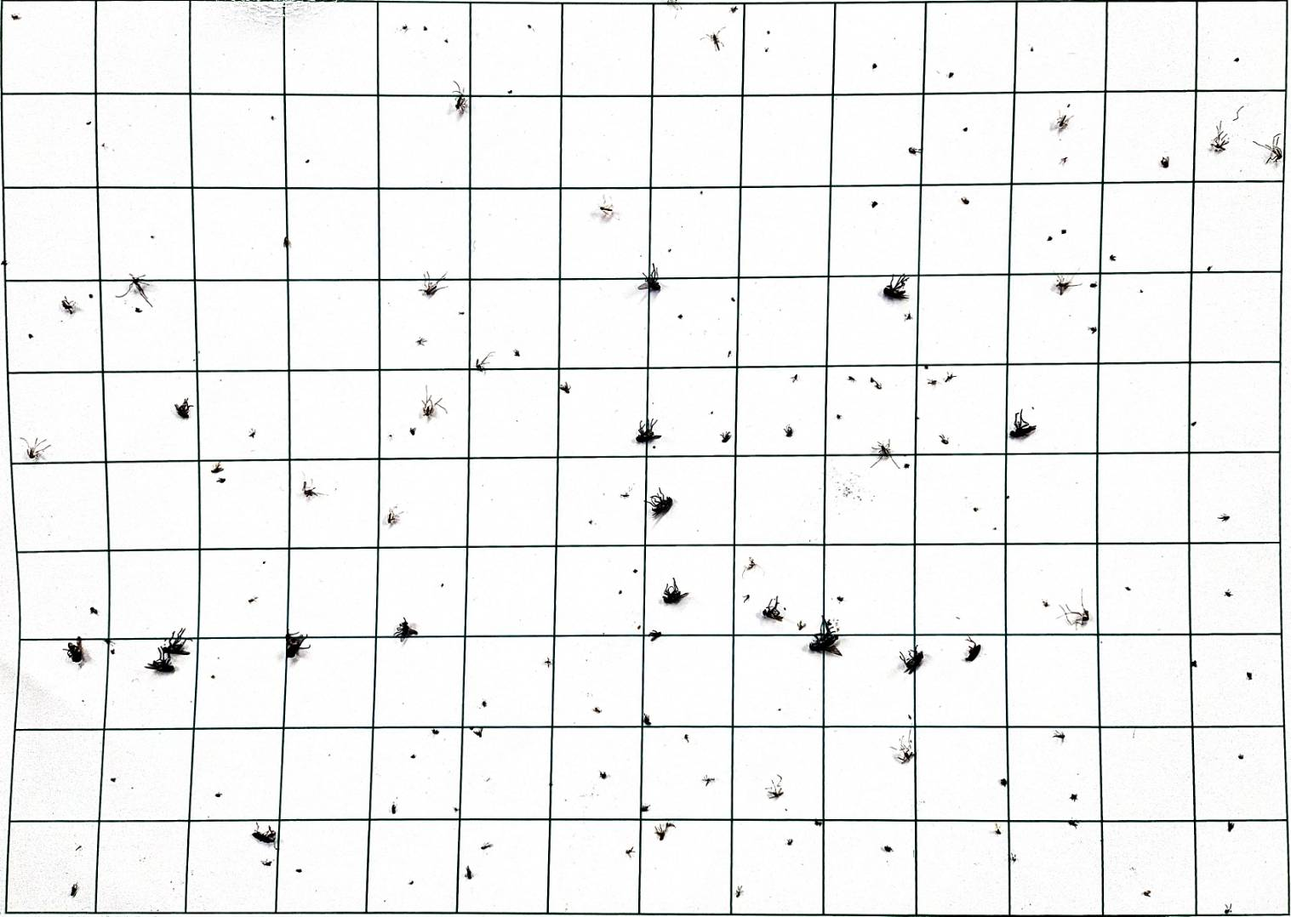fly: (808, 616, 842, 657), (634, 260, 664, 300), (1009, 406, 1036, 440), (648, 485, 674, 519), (160, 627, 190, 655), (634, 414, 661, 445), (898, 643, 924, 675), (660, 576, 689, 604), (285, 630, 311, 660), (63, 635, 89, 664), (144, 654, 178, 676), (882, 278, 910, 303), (760, 595, 784, 621), (394, 617, 418, 643), (252, 823, 276, 846), (173, 395, 193, 419), (963, 638, 981, 662)
test: (1056, 586, 1091, 627), (116, 275, 153, 308), (419, 385, 446, 423), (1253, 134, 1284, 165), (869, 439, 901, 469), (417, 269, 448, 297), (18, 434, 51, 460), (889, 735, 915, 765), (1208, 121, 1230, 153), (595, 194, 620, 221), (1051, 274, 1081, 296), (301, 474, 327, 499), (450, 80, 468, 115), (704, 25, 727, 51), (1052, 111, 1073, 134), (765, 775, 784, 799), (741, 556, 762, 577), (59, 296, 81, 316), (653, 821, 676, 840), (474, 351, 495, 371), (386, 504, 404, 527), (665, 0, 683, 15), (1051, 729, 1065, 743), (103, 640, 116, 655), (559, 380, 572, 394), (649, 629, 663, 642), (620, 484, 633, 498), (1234, 105, 1246, 120), (869, 376, 882, 389), (719, 430, 732, 443), (701, 775, 715, 787), (211, 462, 224, 474), (943, 372, 956, 383), (70, 882, 79, 897), (939, 433, 950, 445), (992, 822, 1002, 835), (464, 865, 473, 879), (625, 846, 635, 858), (471, 727, 483, 737), (415, 337, 428, 346), (1218, 513, 1231, 522), (735, 884, 744, 897), (1159, 156, 1169, 167), (784, 425, 793, 437), (643, 713, 652, 725), (1224, 902, 1233, 914), (908, 147, 921, 155), (881, 845, 894, 853), (480, 842, 493, 850), (796, 620, 806, 630), (543, 656, 552, 667), (283, 237, 291, 249), (1067, 819, 1079, 827), (261, 858, 273, 866), (904, 312, 913, 322), (641, 804, 651, 813), (1010, 852, 1018, 863), (1088, 281, 1100, 288), (790, 374, 799, 383), (599, 770, 608, 779), (1069, 792, 1078, 801), (90, 606, 99, 615), (729, 5, 738, 14), (960, 197, 970, 205), (1227, 821, 1235, 831), (248, 596, 258, 604), (592, 706, 602, 714), (207, 673, 217, 681), (927, 378, 938, 385), (1088, 326, 1097, 334), (1224, 589, 1233, 597), (513, 348, 521, 357), (248, 429, 256, 438), (742, 593, 750, 602), (391, 802, 397, 814), (1246, 671, 1254, 680), (1142, 890, 1152, 897), (11, 14, 21, 21), (85, 292, 92, 302), (1060, 157, 1068, 165), (1041, 599, 1049, 607), (836, 595, 844, 603), (999, 778, 1007, 786), (786, 838, 794, 846), (437, 580, 445, 588), (847, 375, 856, 382), (682, 733, 689, 742), (814, 819, 823, 826), (431, 728, 440, 735), (260, 558, 267, 567), (453, 805, 460, 814), (506, 88, 515, 95), (83, 119, 92, 126), (409, 426, 416, 434), (1109, 254, 1116, 262), (871, 200, 878, 208), (401, 24, 408, 32), (1191, 659, 1198, 667), (0, 259, 8, 266), (75, 844, 83, 851), (420, 25, 429, 31), (304, 157, 310, 166), (947, 71, 954, 78), (481, 699, 487, 707), (217, 477, 225, 483), (295, 867, 303, 873), (588, 517, 594, 525), (904, 462, 910, 470), (457, 309, 465, 315), (1064, 101, 1072, 107), (101, 142, 107, 150), (133, 308, 142, 313), (149, 232, 154, 241), (836, 413, 842, 420), (1207, 265, 1213, 272), (872, 63, 878, 70), (725, 350, 731, 357), (761, 46, 768, 52), (527, 21, 533, 28), (214, 792, 222, 797), (1191, 420, 1197, 426), (973, 506, 979, 512), (962, 126, 968, 132), (410, 753, 416, 759), (1239, 753, 1245, 759), (28, 333, 34, 339), (678, 313, 684, 319), (1233, 57, 1239, 63), (408, 879, 414, 885), (776, 706, 782, 712), (906, 714, 912, 720), (386, 433, 392, 439), (1046, 236, 1053, 241), (1124, 586, 1131, 591), (110, 777, 117, 782), (616, 588, 623, 593), (728, 296, 733, 303), (666, 247, 673, 252), (766, 29, 771, 36), (268, 114, 273, 121), (1061, 229, 1067, 234), (991, 524, 996, 530), (651, 446, 657, 451), (1137, 289, 1143, 294), (1028, 46, 1034, 51), (633, 567, 637, 574), (1004, 495, 1008, 502), (444, 38, 449, 43), (782, 808, 788, 812), (636, 626, 640, 631), (708, 411, 712, 416), (924, 364, 927, 369), (698, 191, 703, 194)
